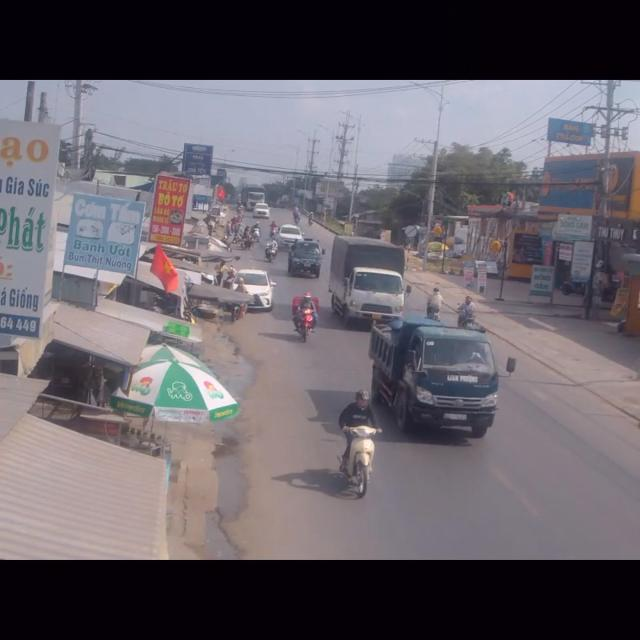motorbike: (338, 393, 376, 493), (294, 290, 318, 346), (459, 293, 476, 329), (428, 284, 442, 321)
truck: (371, 323, 501, 433), (326, 235, 410, 323), (286, 240, 322, 280)
